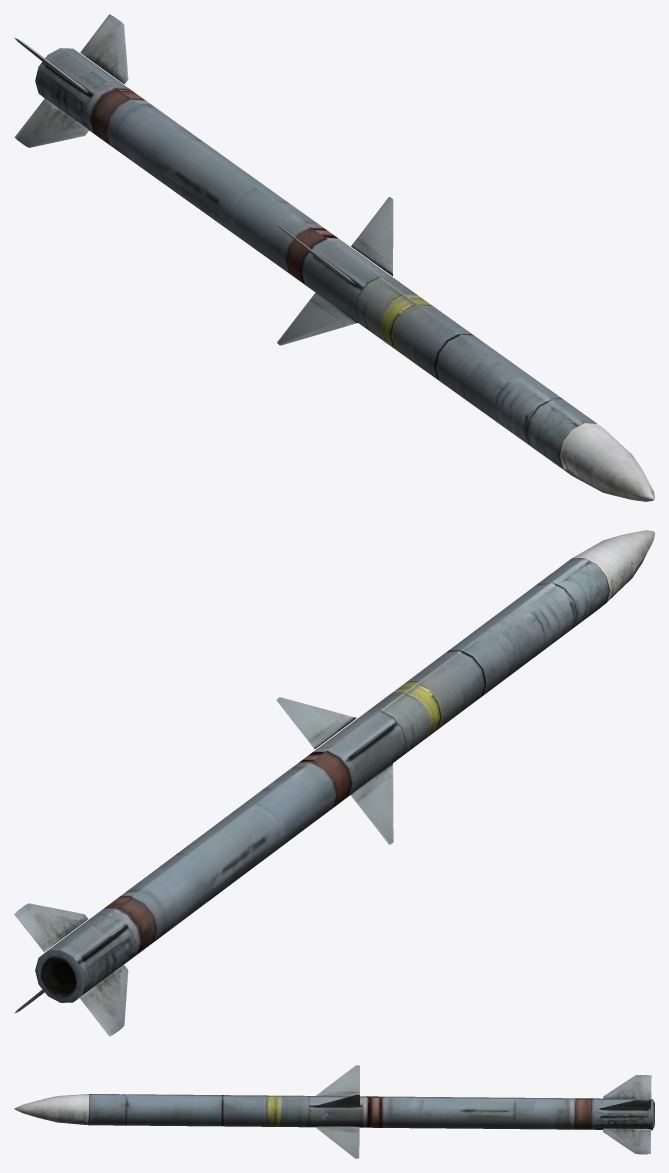
Rendered from missileVehicle_missile.glb.
3 renders of one model, top to bottom at view 1: azimuth 30°, elevation 25°; view 2: azimuth 150°, elevation 25°; view 3: azimuth 270°, elevation 25°, orthographic. The views are drawn at different scales.
Parts seen in each view (by area): view 1: Missile.002_Missile.001_0; view 2: Missile.002_Missile.001_0; view 3: Missile.002_Missile.001_0.
Boxes of the visible parts, bbox=[...] form: Missile.002_Missile.001_0: bbox=[14, 14, 654, 501]; Missile.002_Missile.001_0: bbox=[14, 530, 654, 1036]; Missile.002_Missile.001_0: bbox=[14, 1065, 654, 1158].
Size of the model in its own units: 0.1487 by 0.1486 by 1.35.
Materials: 1 (1 with a texture image).
